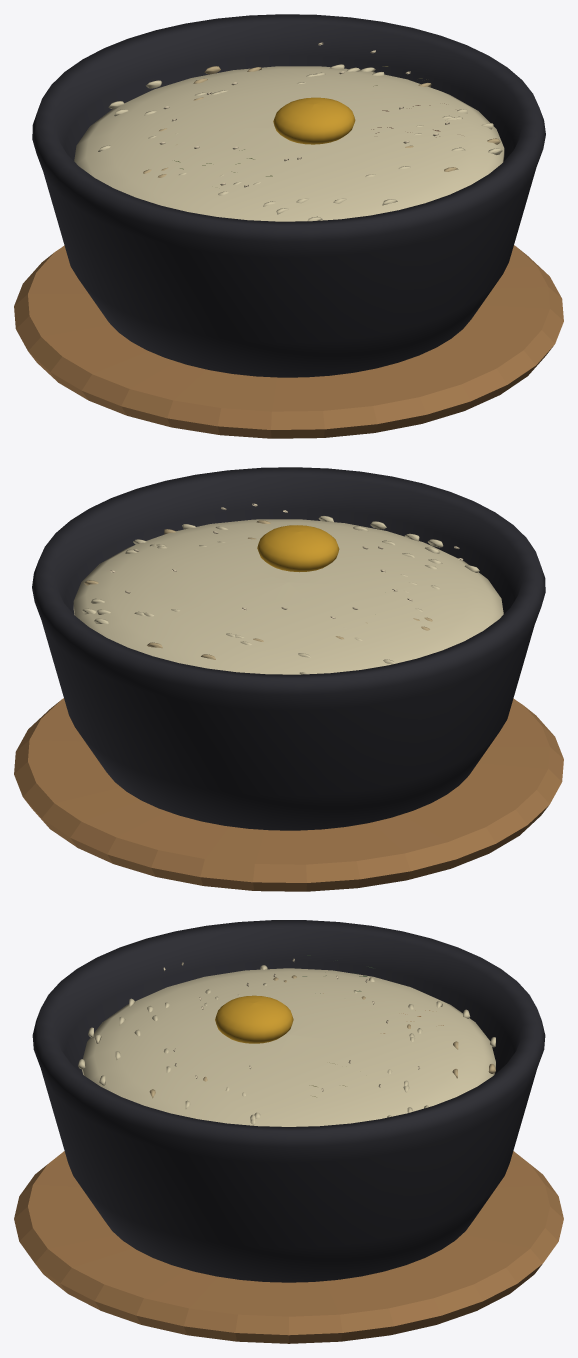
Rendered from bibimbap.glb.
3 renders of one model, top to bottom at view 1: azimuth 30°, elevation 25°; view 2: azimuth 150°, elevation 25°; view 3: azimuth 270°, elevation 25°, orthographic.
Parts seen in each view (by area): view 1: G010_bibimbap; view 2: G010_bibimbap; view 3: G010_bibimbap.
Boxes of the visible parts, x1=… form: G010_bibimbap: x1=14, y1=14, x2=563, y2=438; G010_bibimbap: x1=14, y1=467, x2=563, y2=891; G010_bibimbap: x1=14, y1=920, x2=563, y2=1343.
Bounding box in the file's own units: 0.238 × 0.116 × 0.238.
